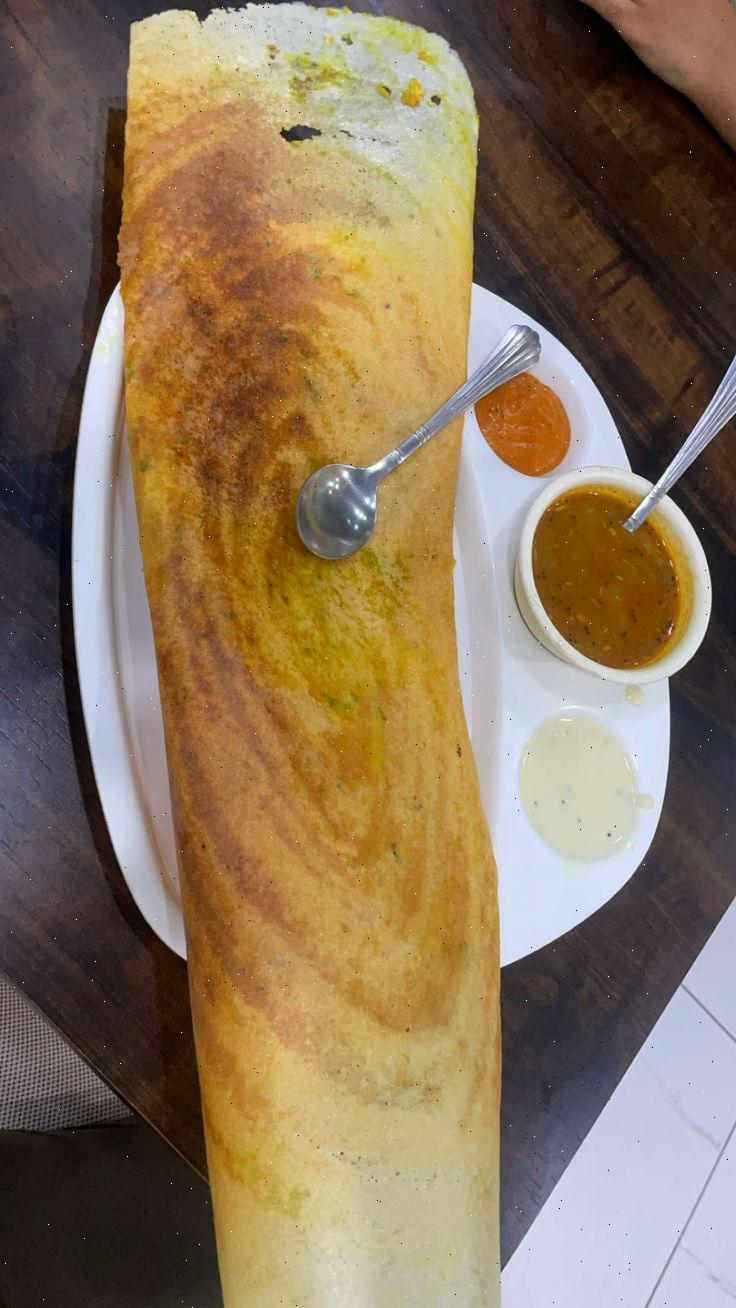dosa: (120, 24, 525, 1308)
